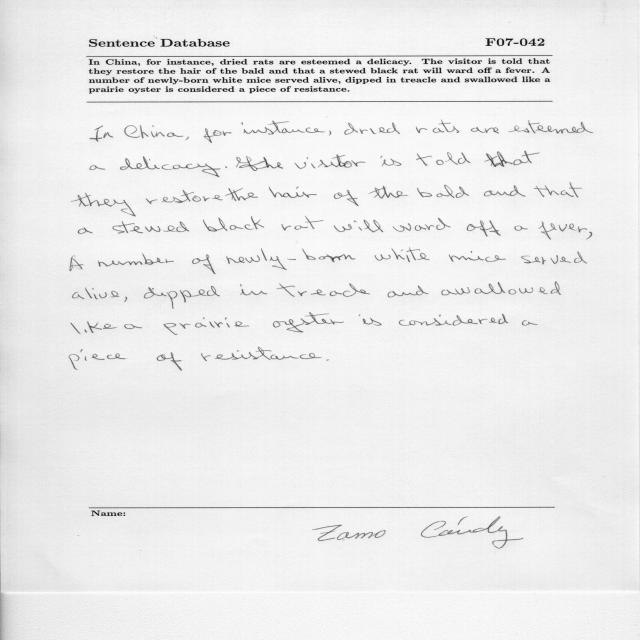word: (226, 248, 356, 270), (120, 157, 221, 178), (144, 286, 220, 309), (201, 347, 322, 361), (71, 193, 136, 217), (441, 282, 561, 295), (164, 317, 249, 335), (273, 313, 344, 333), (399, 314, 508, 326), (277, 283, 370, 297), (69, 349, 127, 370), (241, 121, 325, 135), (508, 121, 593, 134), (146, 190, 223, 204), (295, 154, 365, 169), (98, 253, 173, 267), (203, 216, 264, 232), (124, 125, 189, 140), (113, 221, 190, 233), (538, 222, 587, 240), (485, 151, 540, 167), (521, 252, 587, 265), (393, 218, 451, 232), (375, 248, 430, 262), (417, 152, 471, 166), (344, 122, 400, 135), (534, 183, 582, 198), (236, 156, 283, 171), (417, 185, 469, 198), (449, 251, 506, 262), (281, 216, 324, 230), (71, 321, 117, 334), (466, 220, 501, 237), (334, 220, 383, 232), (73, 288, 120, 300), (269, 187, 317, 198), (416, 121, 459, 133), (369, 186, 408, 199), (484, 185, 525, 197), (388, 286, 429, 298), (192, 254, 216, 274), (157, 352, 182, 371), (225, 188, 258, 201), (334, 190, 359, 206), (90, 126, 113, 142), (240, 284, 267, 295), (204, 128, 222, 143), (359, 314, 381, 326), (381, 156, 402, 166), (471, 127, 499, 134), (70, 256, 83, 271), (79, 227, 93, 234), (124, 324, 142, 329), (90, 165, 105, 170), (522, 321, 537, 326), (514, 226, 528, 231), (222, 131, 232, 136), (586, 232, 592, 240), (124, 297, 127, 302), (329, 131, 331, 136), (226, 166, 228, 168), (326, 360, 329, 361)
